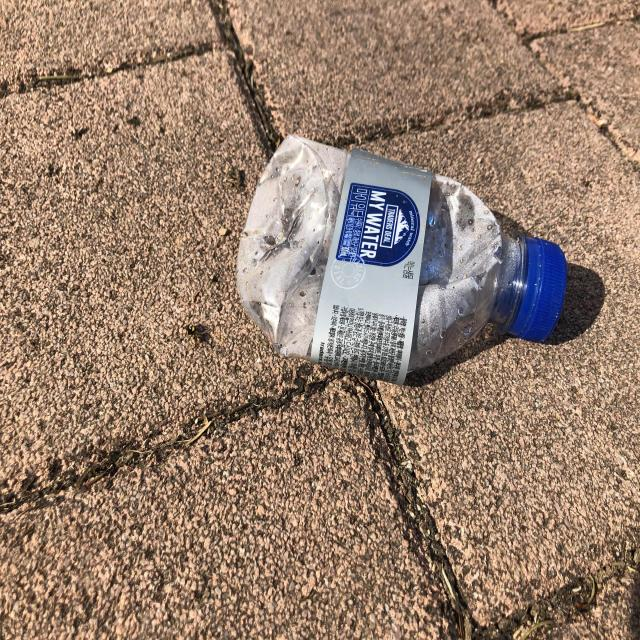plastic: (237, 135, 568, 385)
